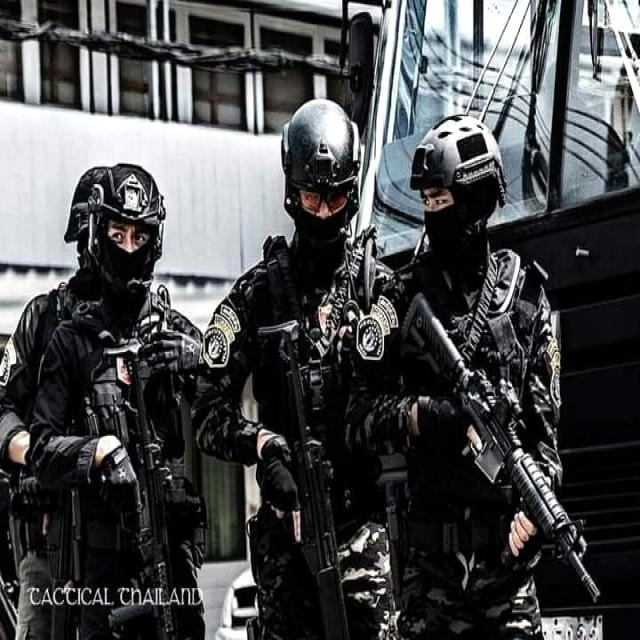m16: (377, 276, 632, 616)
